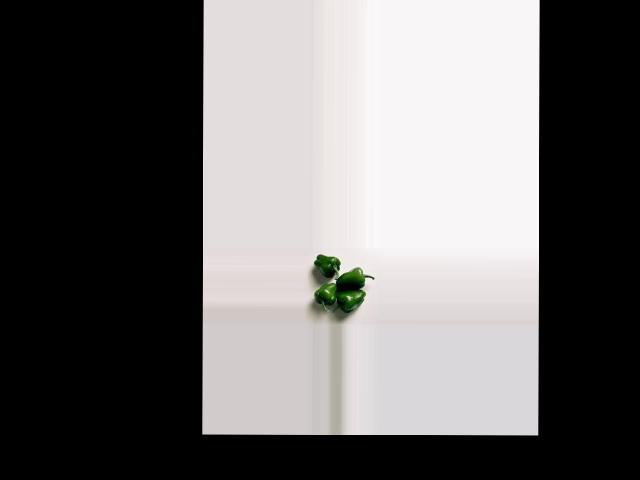bell_pepper: (314, 281, 335, 310)
